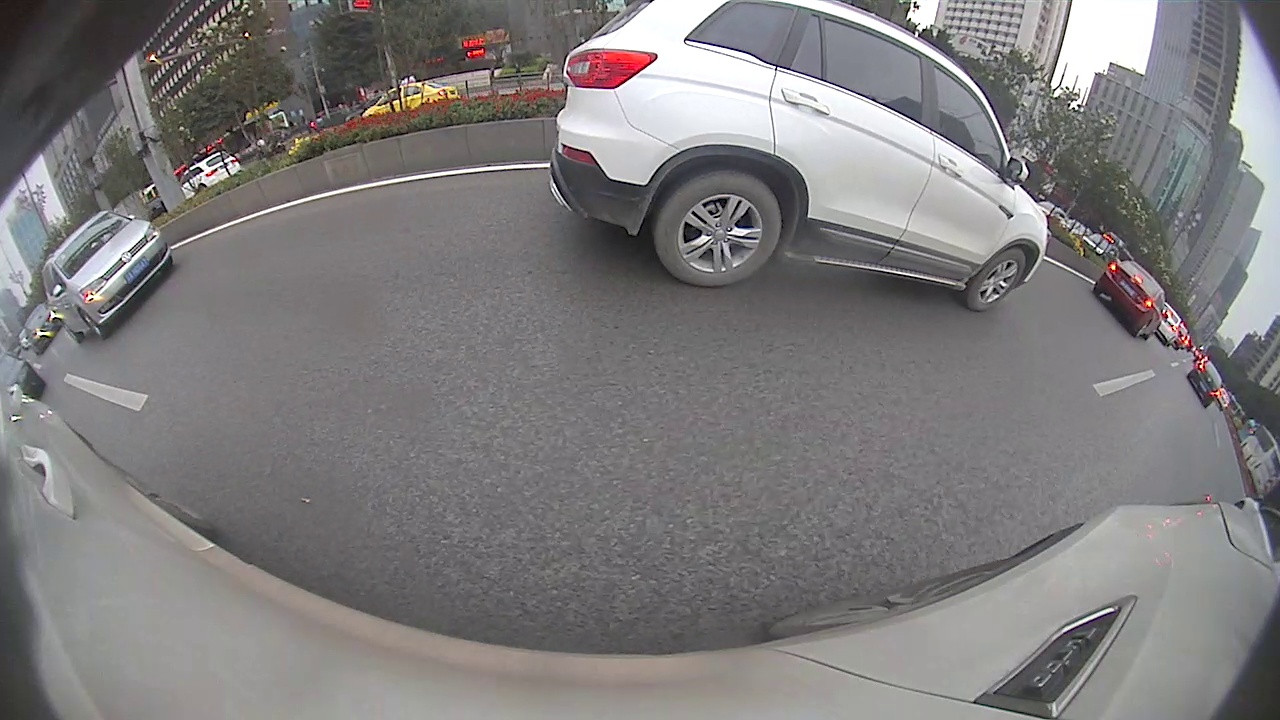car: (547, 1, 1050, 311), (39, 206, 174, 346), (1091, 258, 1170, 343), (361, 76, 458, 120), (0, 352, 47, 409), (1187, 358, 1224, 409)
front: (963, 248, 1025, 312)
rear: (654, 171, 781, 286)
